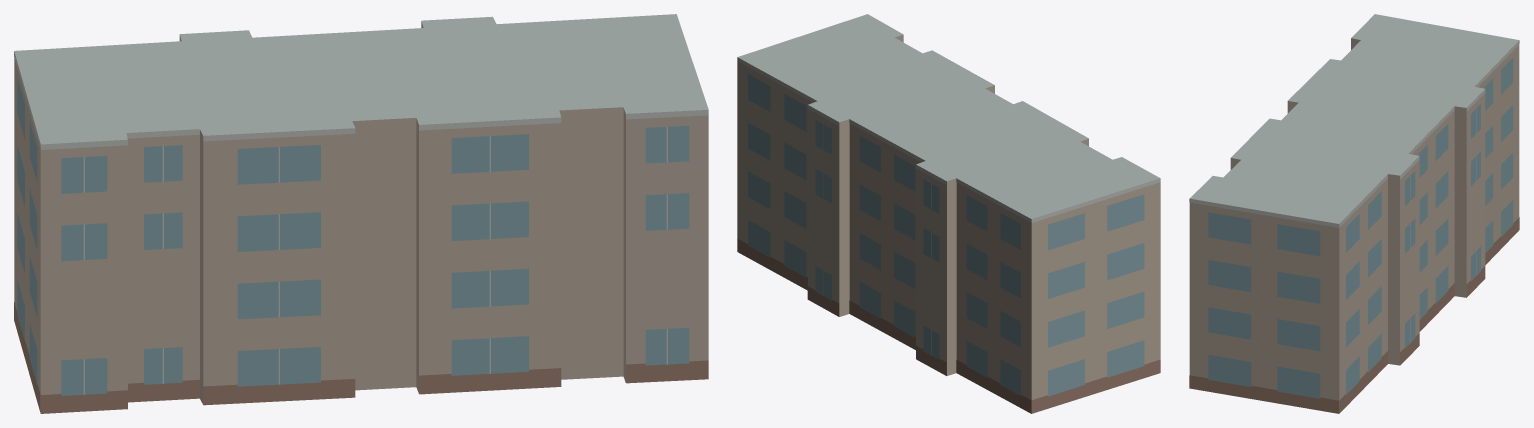
File: survey-upis-32589594.glb
3 views of the same model, side by side, from view 1: azimuth 30°, elevation 25°; view 2: azimuth 150°, elevation 25°; view 3: azimuth 270°, elevation 25° (orthographic). The views are drawn at different scales.
Parts seen in each view (by area): view 1: survey-upis-32589594.tmp; view 2: survey-upis-32589594.tmp; view 3: survey-upis-32589594.tmp.
Part boxes in pixels (x1,y1,x2,y2): survey-upis-32589594.tmp: [14, 14, 708, 413]; survey-upis-32589594.tmp: [737, 14, 1160, 413]; survey-upis-32589594.tmp: [1189, 14, 1519, 413].
Bounding box in the file's own units: 28.02 × 11.81 × 18.61.
